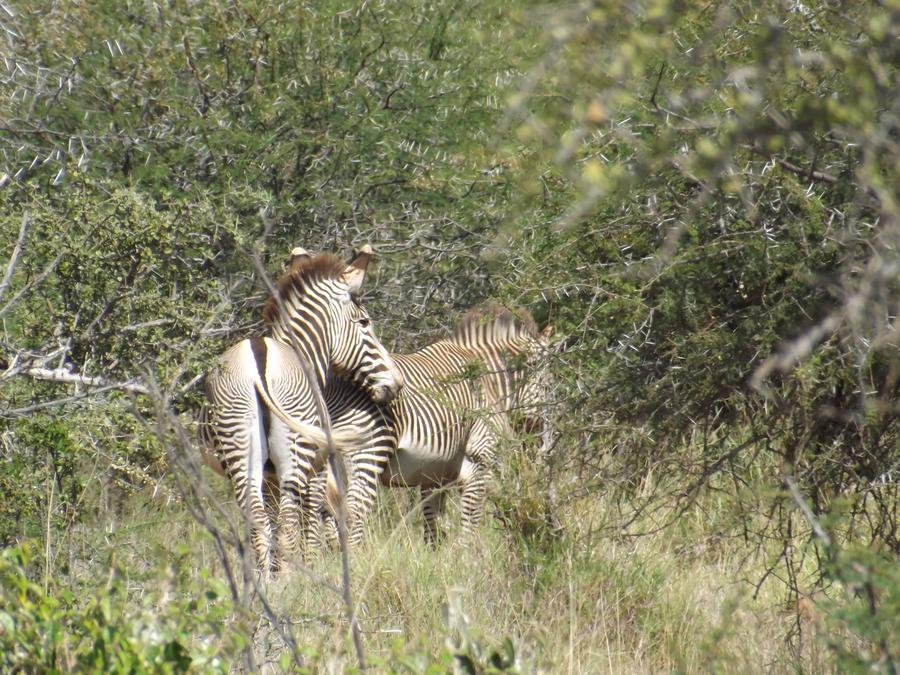zebra_grevys: (393, 334, 498, 464)
